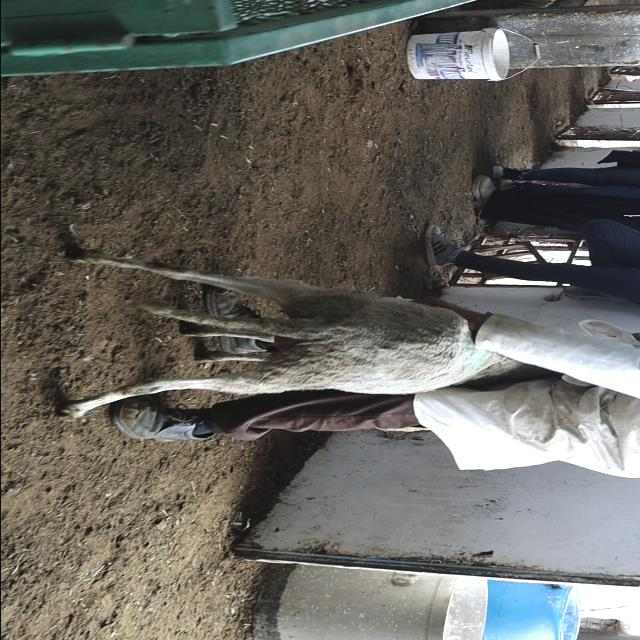Score_1: (59, 249, 546, 418)
